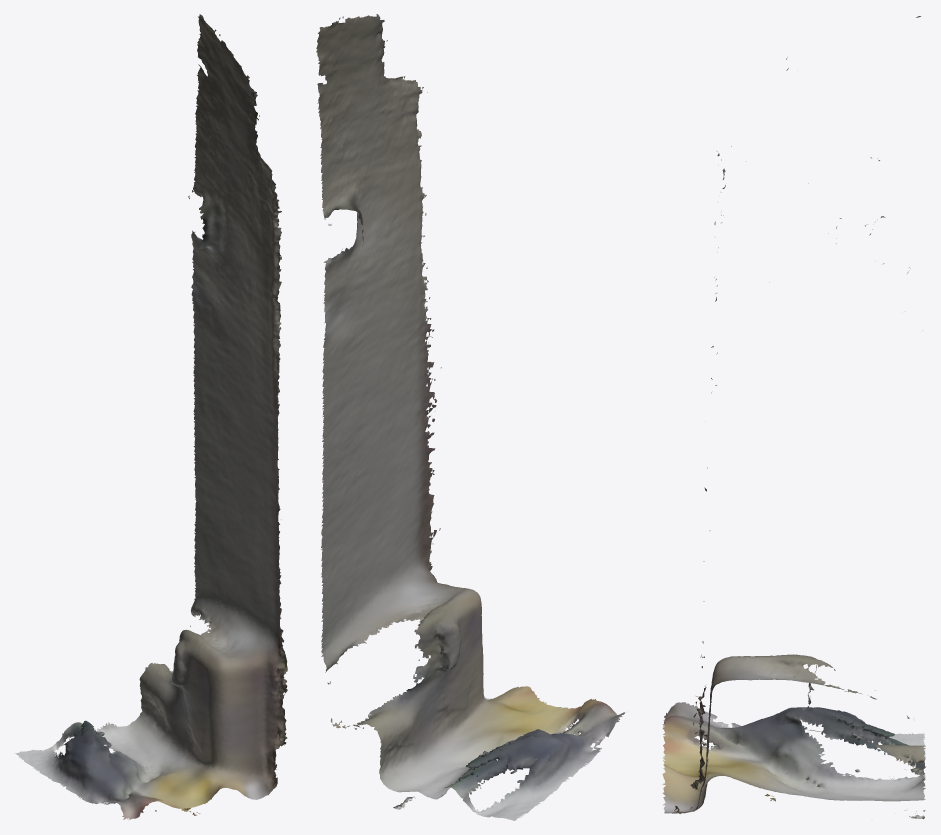
The model's file is apartment-full-117-c7b385f59347.glb.
The picture shows the model from 3 angles, left to right: view 1: azimuth 30°, elevation 25°; view 2: azimuth 150°, elevation 25°; view 3: azimuth 270°, elevation 25°; orthographic projection. The views are drawn at different scales.
Bounding box in the file's own units: 0.65 × 2.36 × 0.669.
